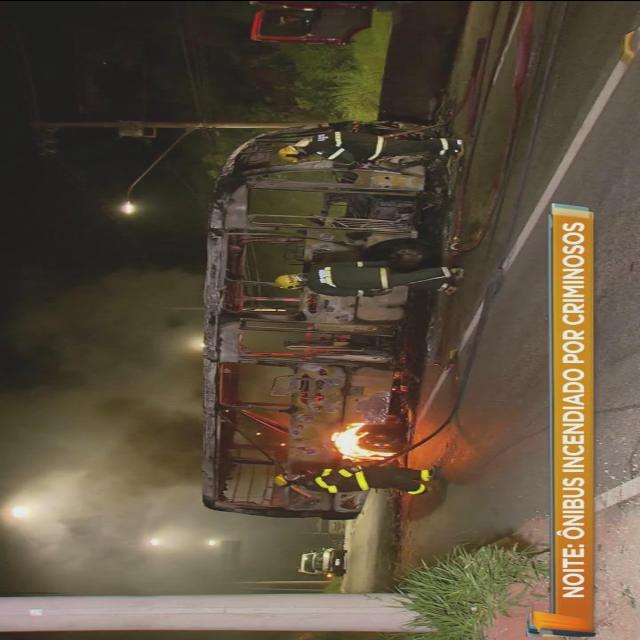Fire: (328, 420, 396, 464)
